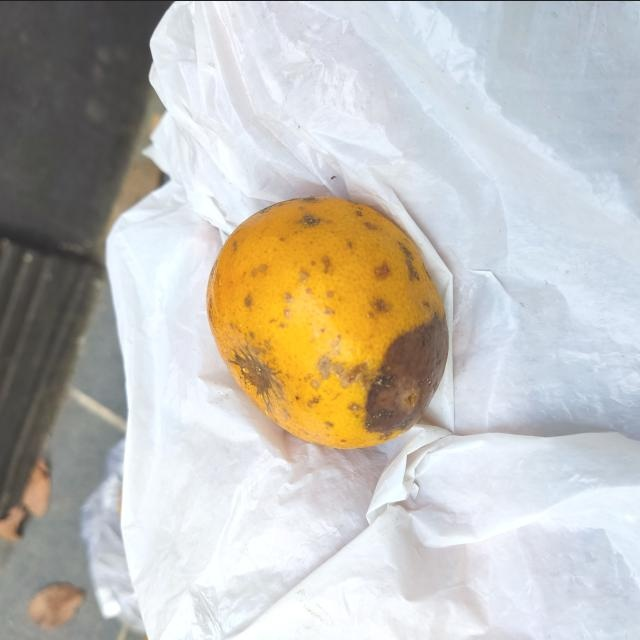agrume: (206, 194, 449, 453)
